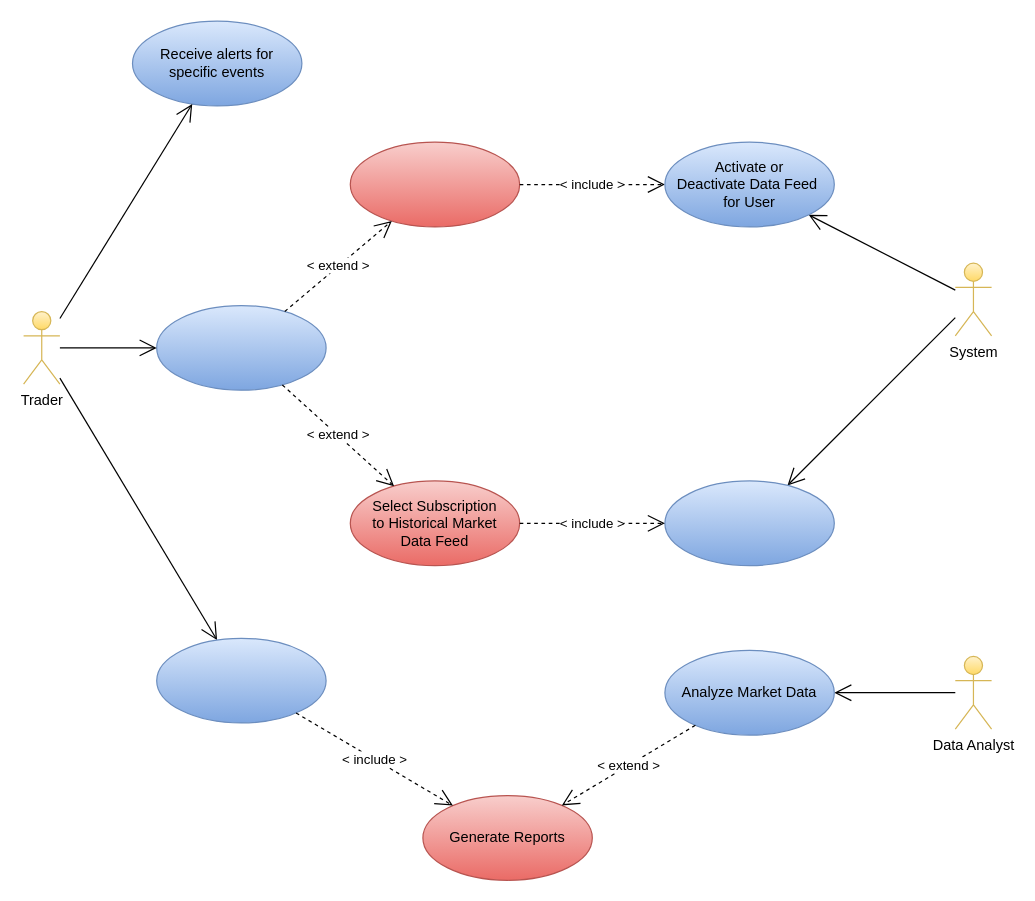
Image size: 1035x901. Some labels were removed from this diagram. The box of each missing label's shape, as (x1, y1, x2, y2) in pixels:
Manage subcriptions ( add or remove ): (155, 304, 326, 390)
Provide the Historical Data in the Requested Format: (664, 480, 834, 566)
Select Subscription to Real-Time Data Feed: (349, 141, 520, 227)
Use Reports for Trading: (155, 637, 326, 723)
